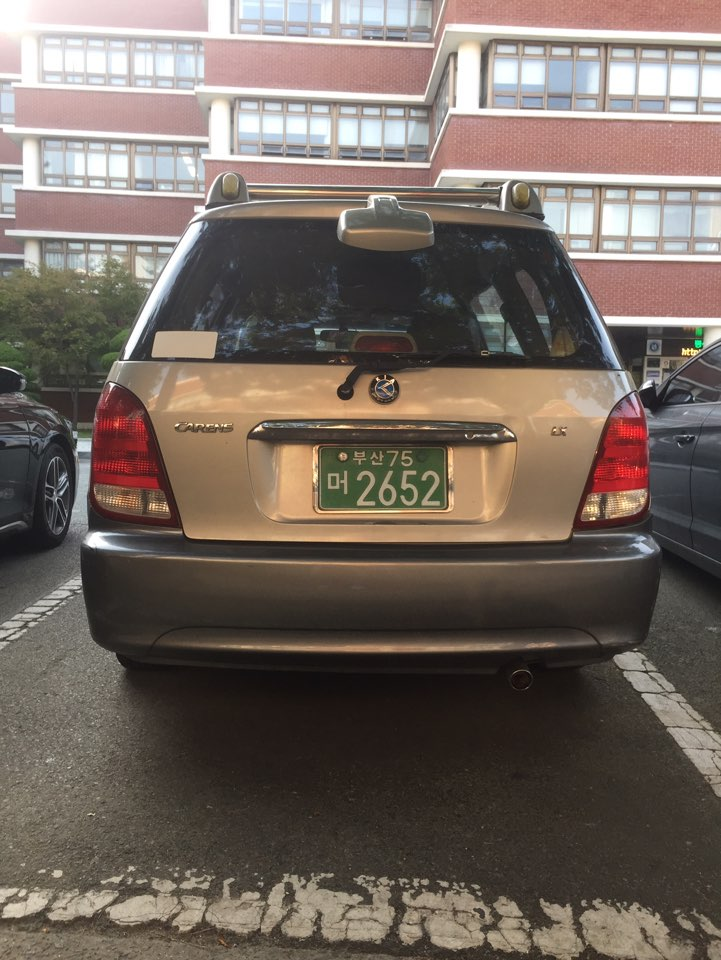car: (60, 166, 677, 710), (640, 336, 721, 578), (0, 366, 80, 551)
parking meter: (62, 166, 676, 710)
